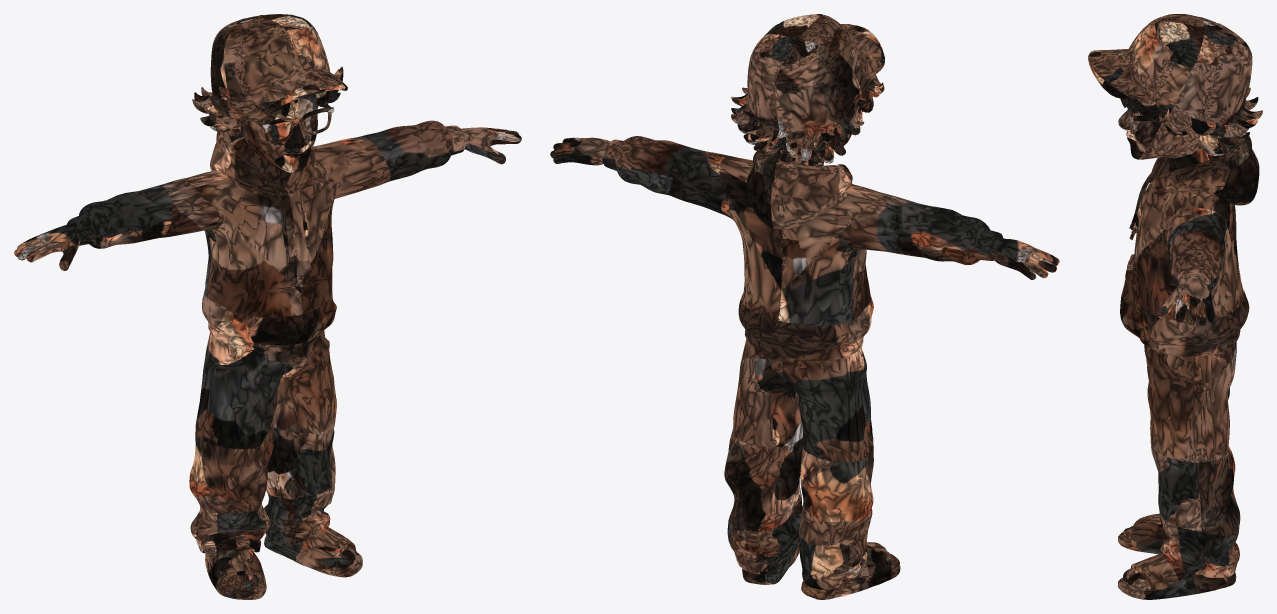
The model's file is character.obj.
3 views of the same model, side by side, from view 1: azimuth 30°, elevation 25°; view 2: azimuth 150°, elevation 25°; view 3: azimuth 270°, elevation 25° (orthographic).
Parts seen in each view (by area): view 1: character; view 2: character; view 3: character.
Part boxes in pixels (x1,y1,x2,y2): character: (14, 14, 521, 599); character: (550, 14, 1059, 599); character: (1088, 14, 1262, 599).
Bounding box in the file's own units: 167 × 175 × 50.77.
Materials: 1 (1 with a texture image).
